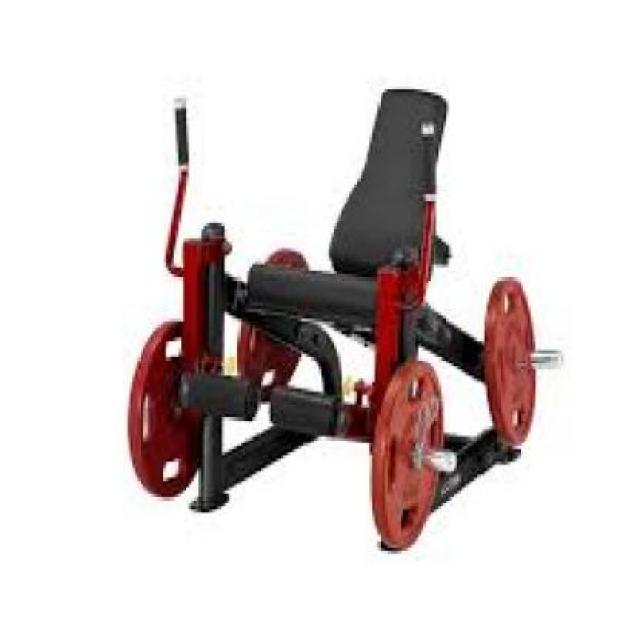leg extension: (108, 69, 574, 569)
